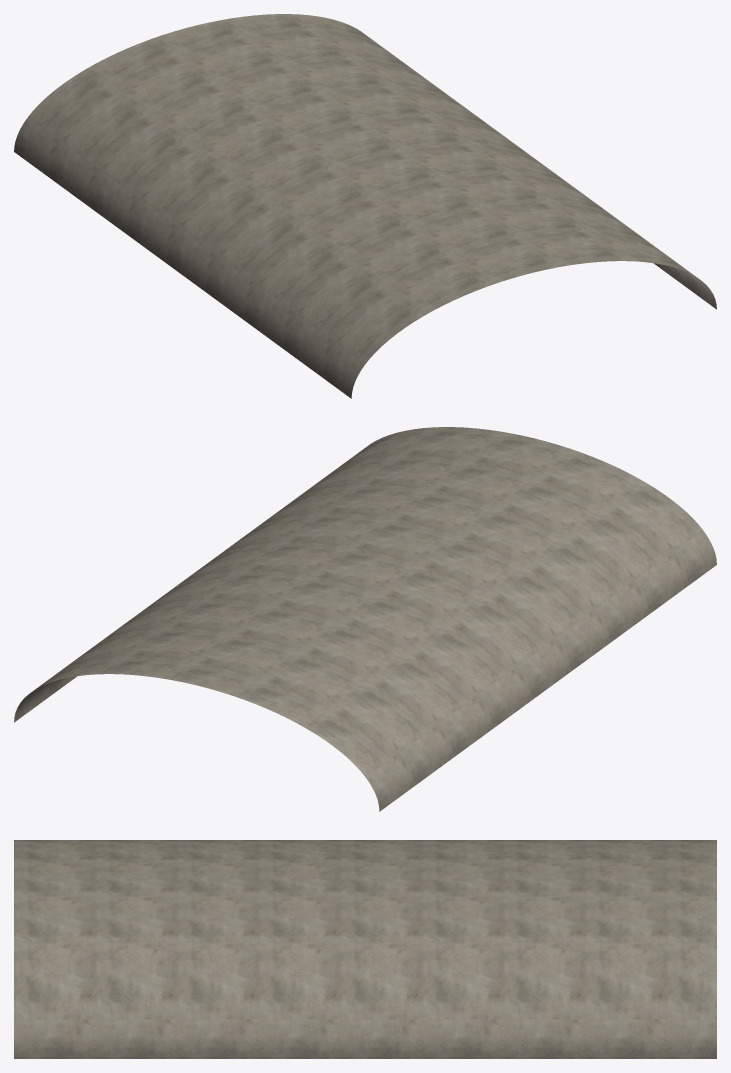
Rendered from church_vault.glb.
3 renders of one model, top to bottom at view 1: azimuth 30°, elevation 25°; view 2: azimuth 150°, elevation 25°; view 3: azimuth 270°, elevation 25°, orthographic. The views are drawn at different scales.
Visible parts, largest first — view 1: PlasterSurface; view 2: PlasterSurface; view 3: PlasterSurface.
Part boxes in pixels (bbox=[...]): PlasterSurface: bbox=[14, 14, 716, 398]; PlasterSurface: bbox=[14, 427, 716, 811]; PlasterSurface: bbox=[14, 840, 716, 1058].
Size of the model in its own units: 7 by 1.5 by 11.2.
1 material, 1 textured.
